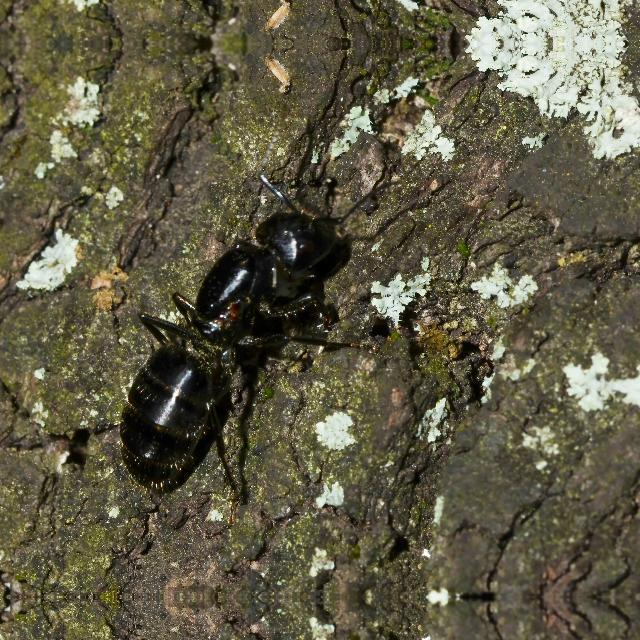Camponotus: (64, 164, 403, 498)
